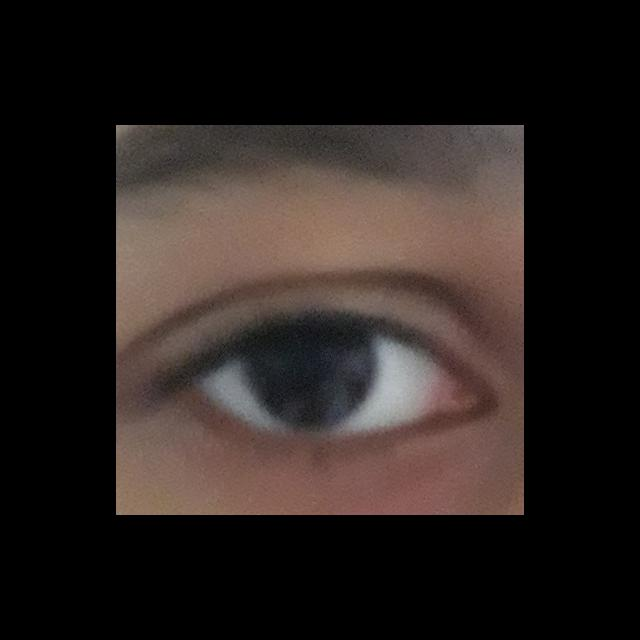eye: (198, 326, 458, 434)
iris: (244, 332, 379, 432)
